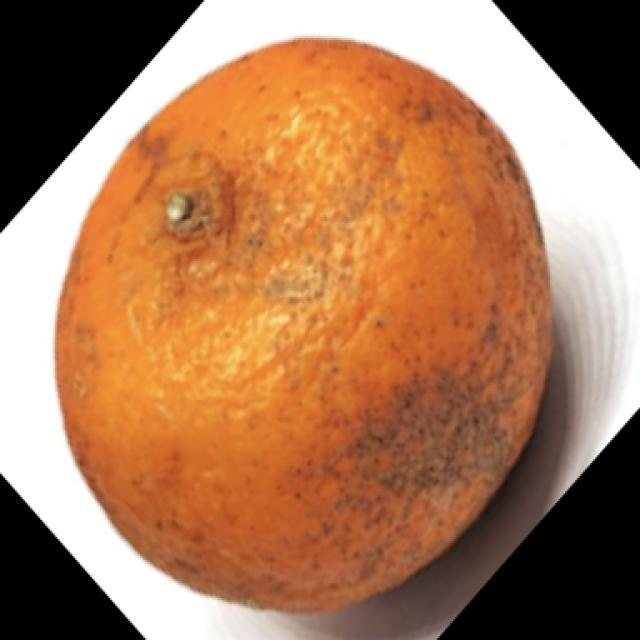matang: (57, 39, 550, 610)
